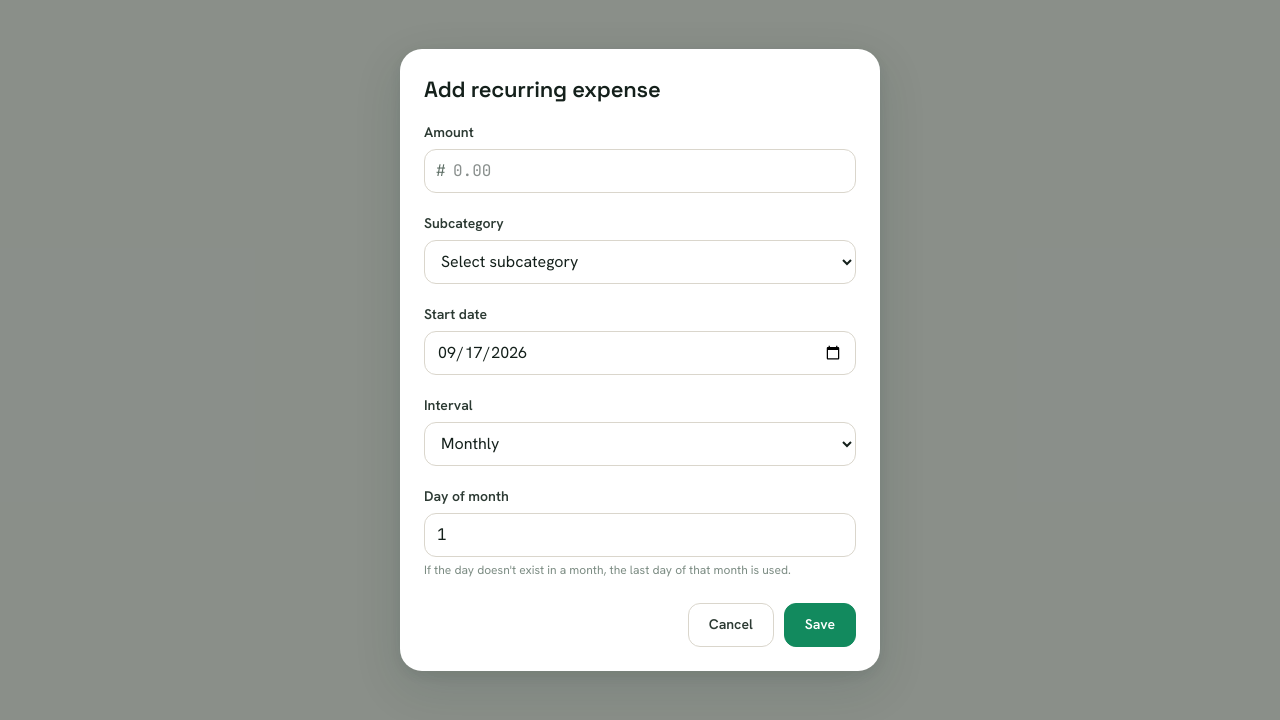
Test: RecurringForm › shows validation error when amount is empty and save is clicked
The image size is (1280, 720).
Step 1. Click the button "Save" → (820, 625), box [784, 603, 856, 647]
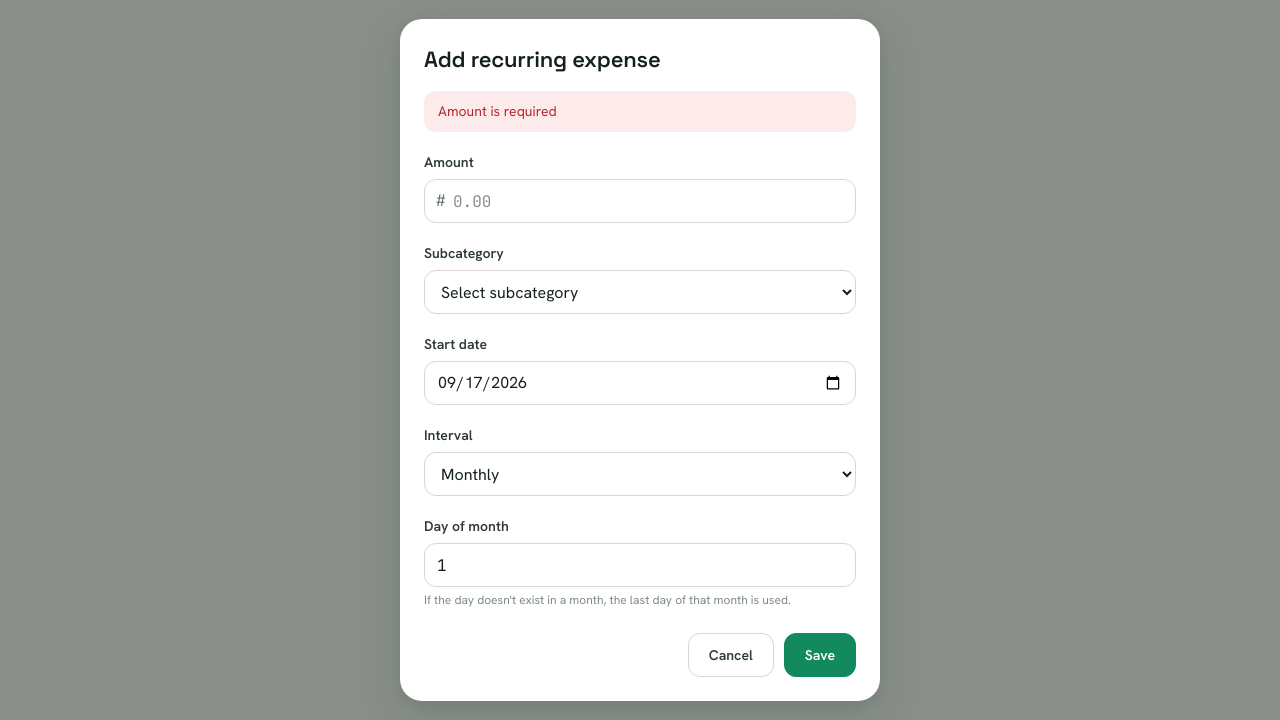
Now the message "Amount is required" is shown, box [424, 91, 856, 132]
